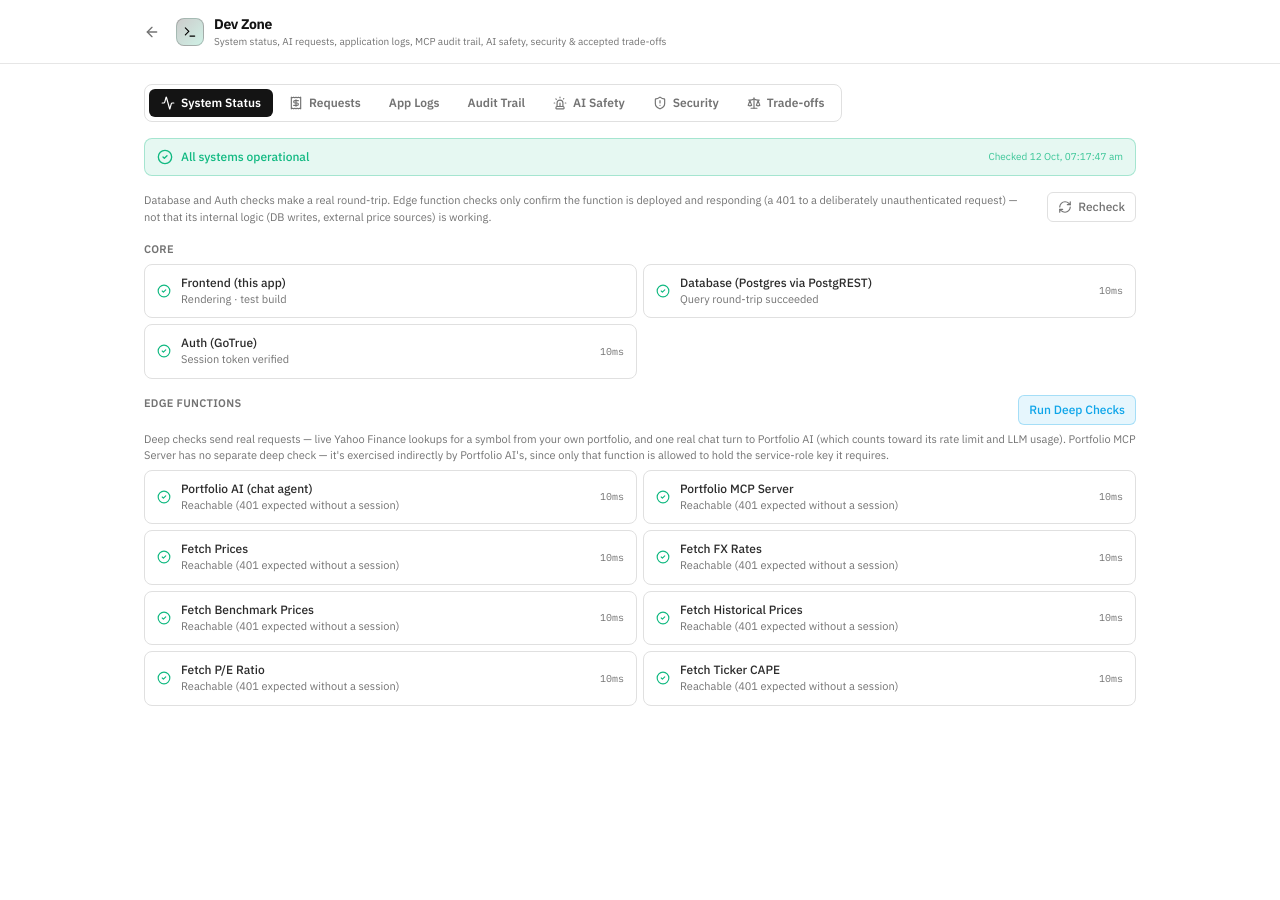
Test: DevZone › System Status tab (default view) › shows a deep-check failure when an edge function errors
The image size is (1280, 900).
Expected: the text "All systems operational" is shown, [157,149,309,165]
Click the button "Run Deep Checks". click: (1077, 410)
box: [1018,394,1136,424]
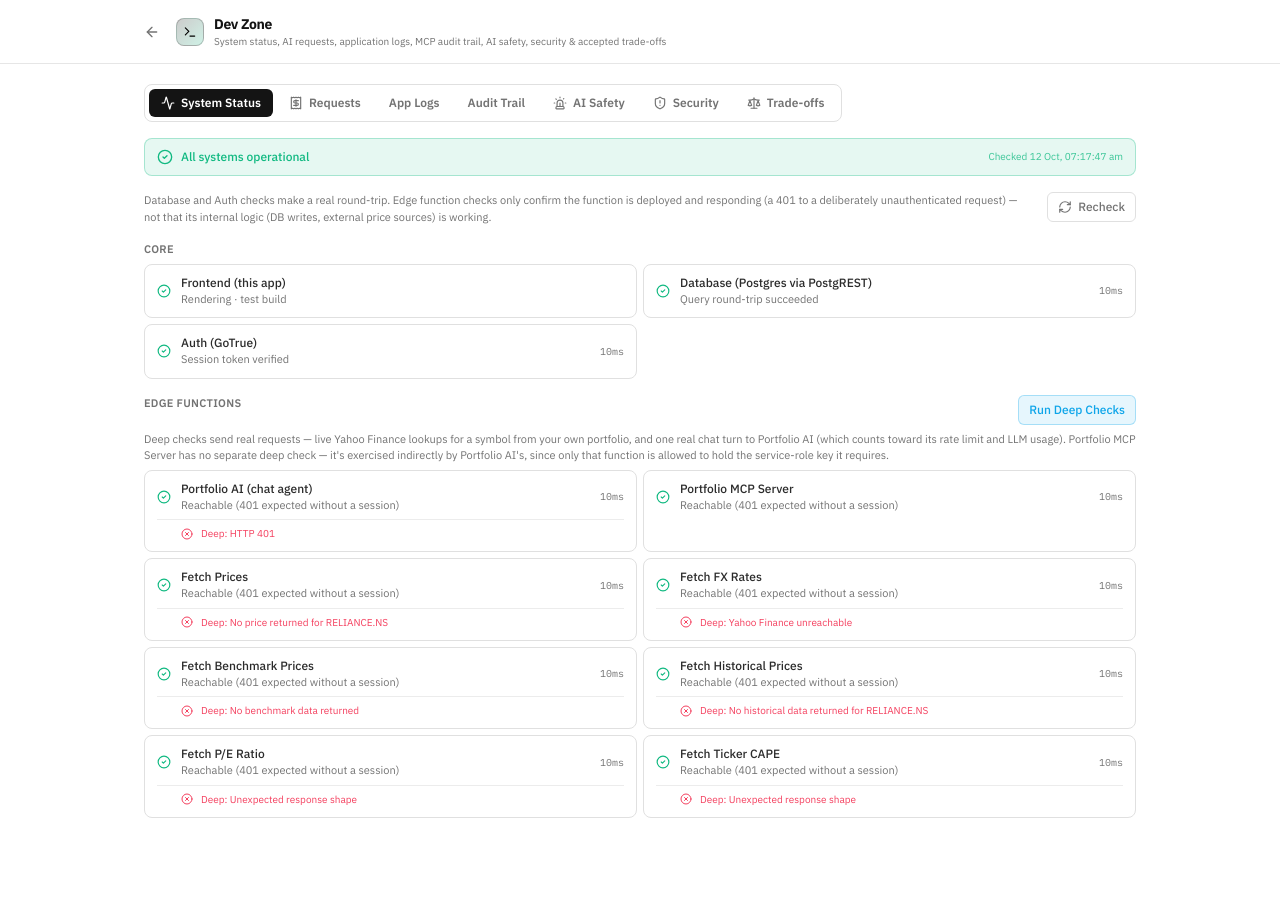
Expected: the text "Deep: Yahoo Finance unreachable" is shown, [700,614,852,630]
